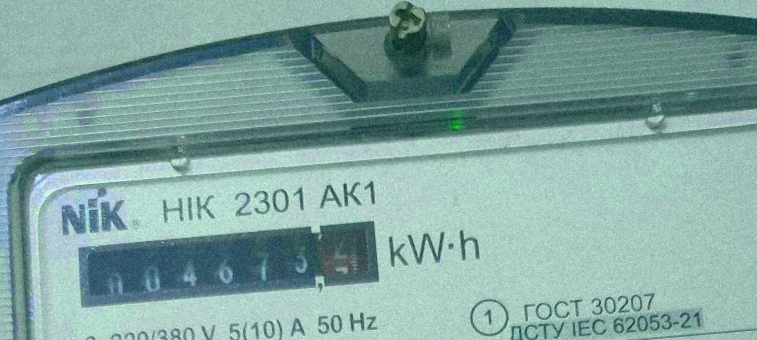0: (103, 267, 125, 298), (140, 262, 161, 294)
2: (327, 229, 350, 263)
3: (289, 242, 309, 277)
4: (178, 254, 199, 291)
6: (212, 251, 236, 287)
7: (250, 248, 275, 286)
screen: (70, 215, 385, 318)
